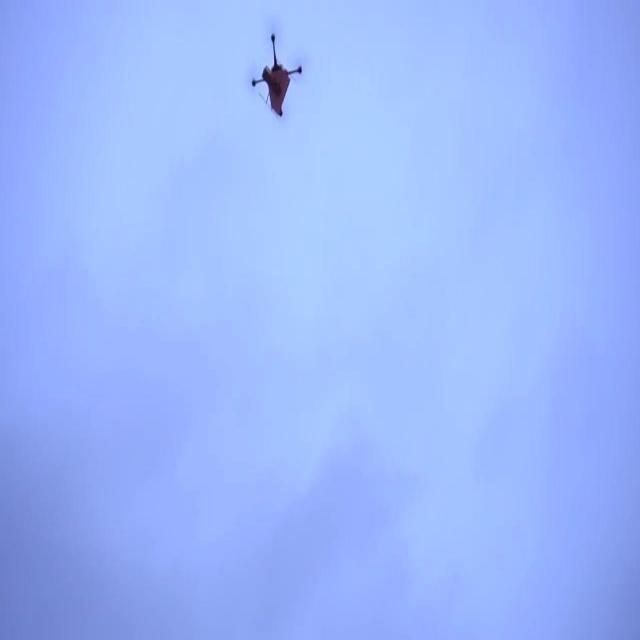UAV: (252, 34, 302, 117)
